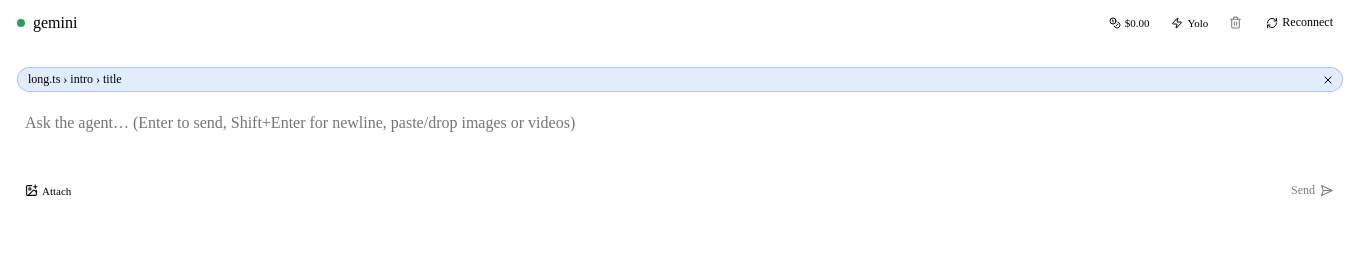
Test: ChatPane › sends the prompt with the selection context on Enter
Replace the text in the text box with placeholder "Ask the agent" with "make it blue". click: [680, 141]
box: x1=17 y1=108 x2=1343 y2=174
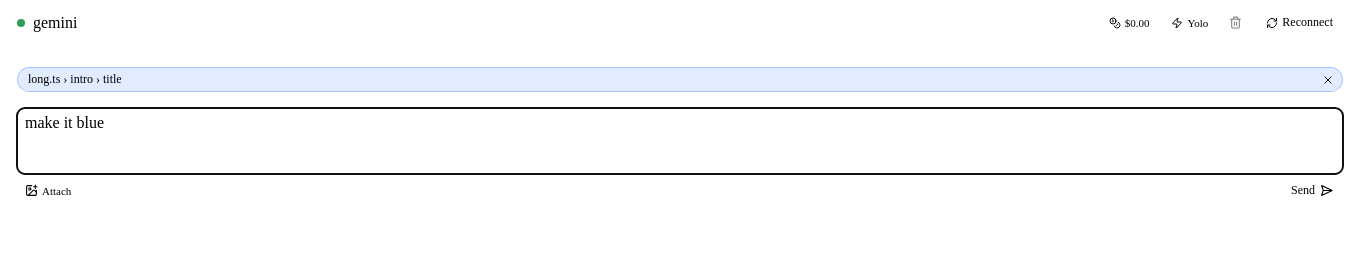
Press Enter
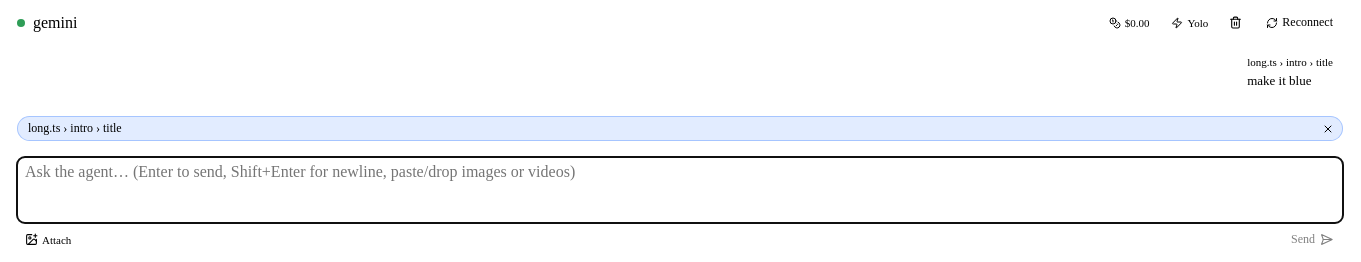
Now the text "make it blue" is shown, box x1=1247 y1=73 x2=1311 y2=88
